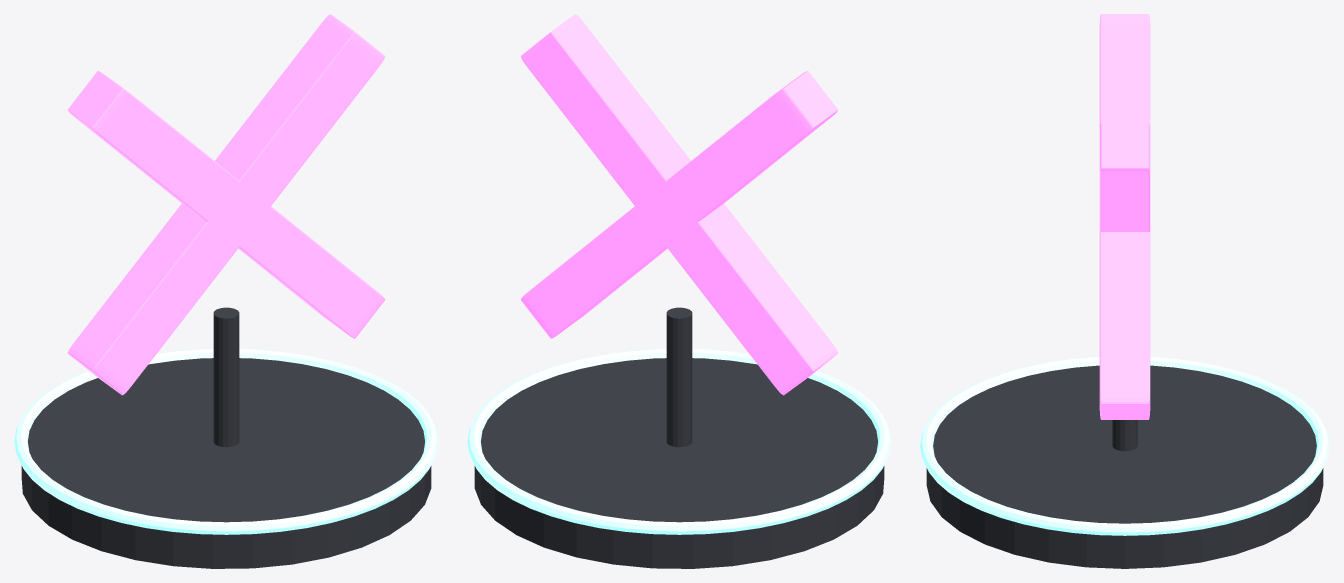
The model's file is taller-de-xen-monumento.glb.
3 views of the same model, side by side, from view 1: azimuth 30°, elevation 25°; view 2: azimuth 150°, elevation 25°; view 3: azimuth 270°, elevation 25° (orthographic). The views are drawn at different scales.
Visible parts, largest first — view 1: Cylinder; view 2: Cylinder; view 3: Cylinder.
Part boxes in pixels (x1,y1,x2,y2): Cylinder: (14,14,438,568); Cylinder: (467,14,891,568); Cylinder: (920,14,1329,568).
Bounding box in the file's own units: 1.14 × 1.27 × 1.14.
